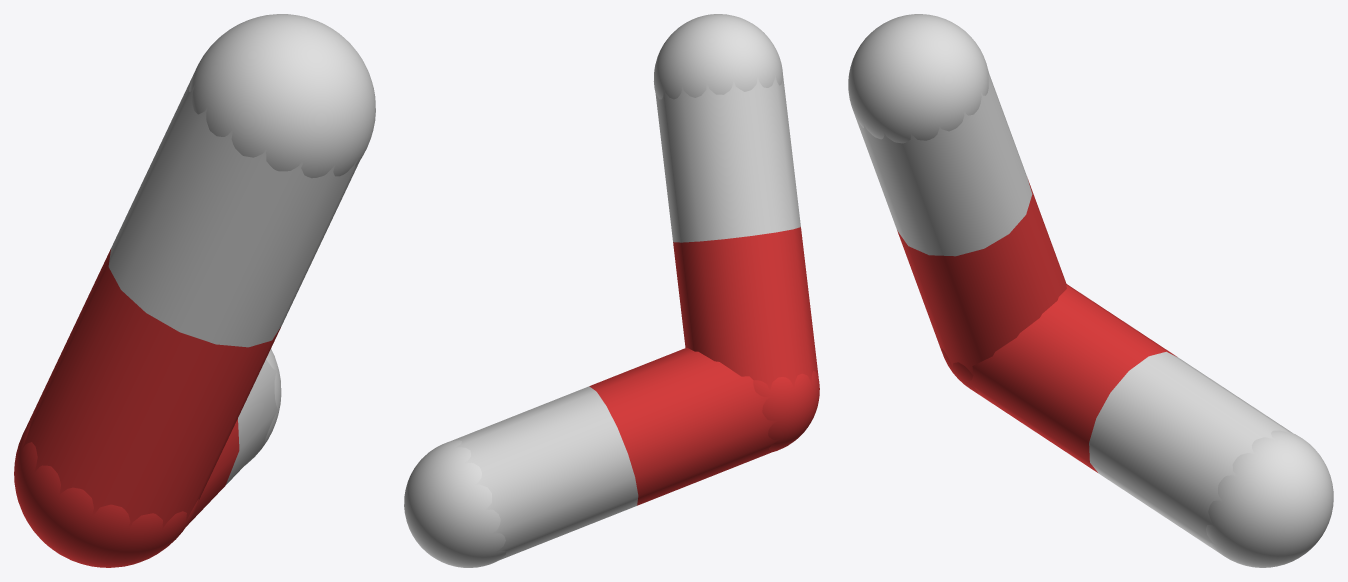
Rendered from 962-sticks-color-vis_NIH3D.glb.
3 views of the same model, side by side, from view 1: azimuth 30°, elevation 25°; view 2: azimuth 150°, elevation 25°; view 3: azimuth 270°, elevation 25° (orthographic). The views are drawn at different scales.
Visible parts, largest first — view 1: bonds, atoms; view 2: bonds, atoms; view 3: bonds, atoms.
Boxes of the visible parts, box(x1,y1,x2,y2) form: bonds: box(22, 73, 359, 529); atoms: box(14, 14, 375, 567); bonds: box(448, 73, 819, 562); atoms: box(404, 14, 819, 567); bonds: box(853, 72, 1292, 554); atoms: box(848, 14, 1333, 567).
Bounding box in the file's own units: 1.01 × 1.53 × 1.37.
